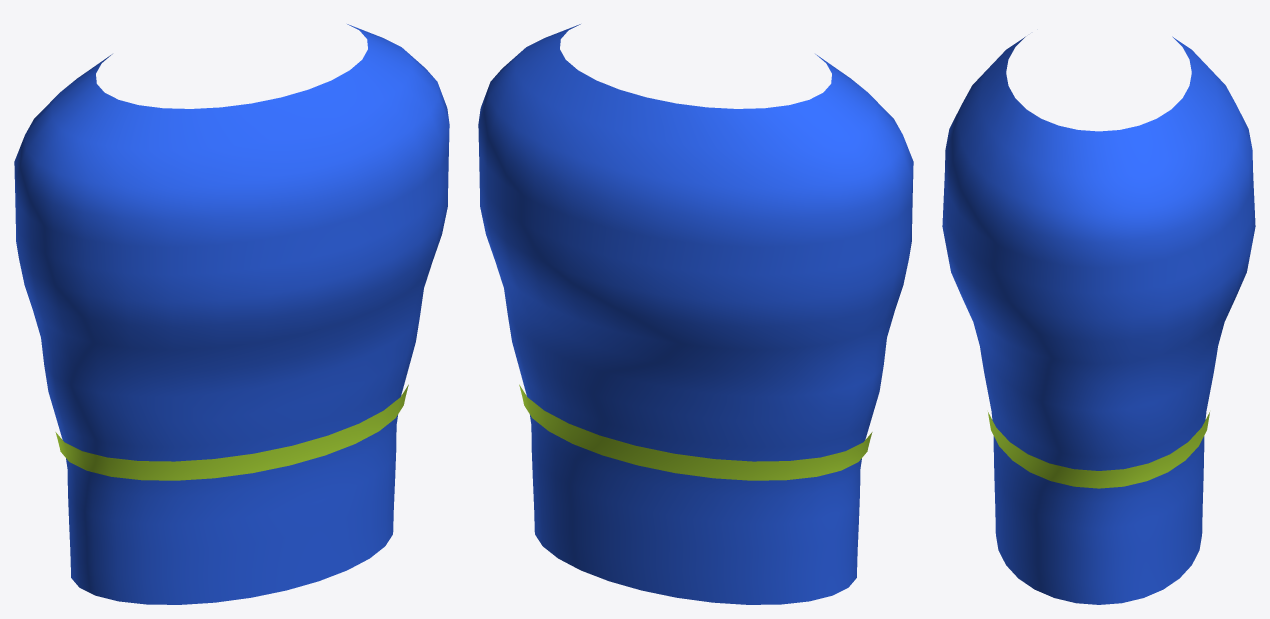
File: top_singlet_male.glb
The picture shows the model from 3 angles, left to right: view 1: azimuth 30°, elevation 25°; view 2: azimuth 150°, elevation 25°; view 3: azimuth 270°, elevation 25°; orthographic projection. The views are drawn at different scales.
Parts seen in each view (by area): view 1: shirt, stripe; view 2: shirt, stripe; view 3: shirt, stripe.
Boxes of the visible parts, x1,y1,x2,y2 form: shirt: [14, 24, 449, 604]; stripe: [55, 384, 408, 480]; shirt: [478, 24, 913, 604]; stripe: [519, 384, 872, 480]; shirt: [942, 36, 1255, 604]; stripe: [988, 412, 1209, 488].
Bounding box in the file's own units: 0.3638 × 0.42 × 0.258.
